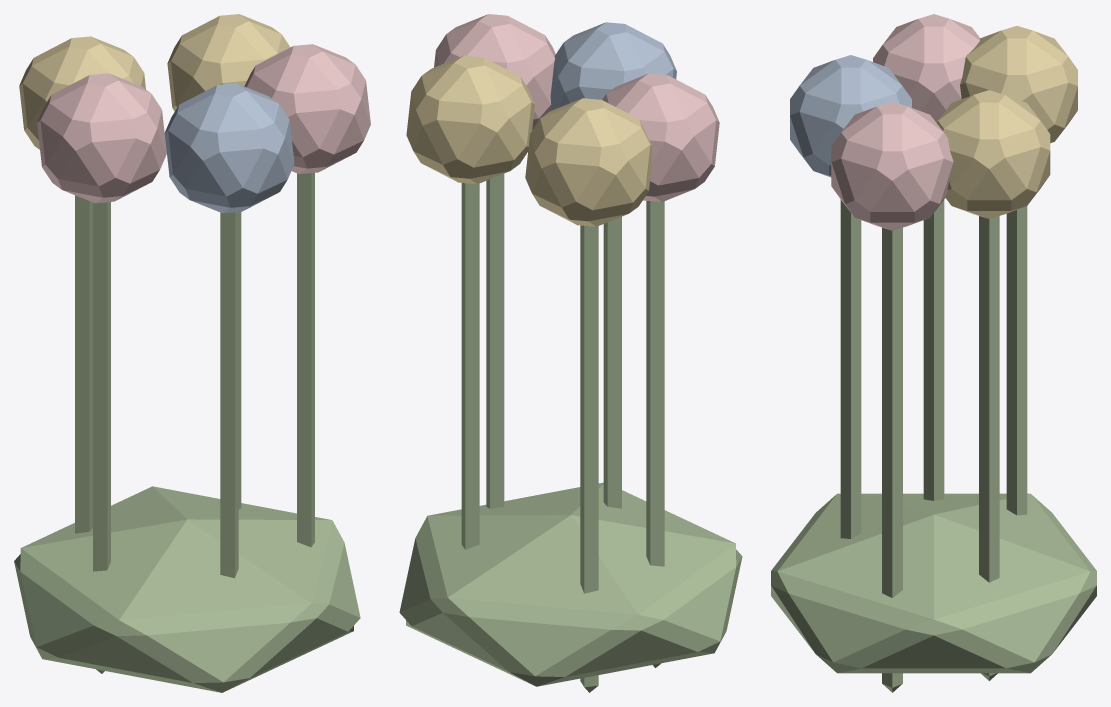
The model's file is SM_Flower_02.fbx.
3 renders of one model, left to right at view 1: azimuth 30°, elevation 25°; view 2: azimuth 150°, elevation 25°; view 3: azimuth 270°, elevation 25°, orthographic.
Parts seen in each view (by area): view 1: Flower_02; view 2: Flower_02; view 3: Flower_02.
Part boxes in pixels (bbox=[...]): Flower_02: bbox=[14, 14, 370, 692]; Flower_02: bbox=[399, 14, 742, 692]; Flower_02: bbox=[771, 14, 1096, 692].
Bounding box in the file's own units: 25.02 × 47.09 × 23.54.
